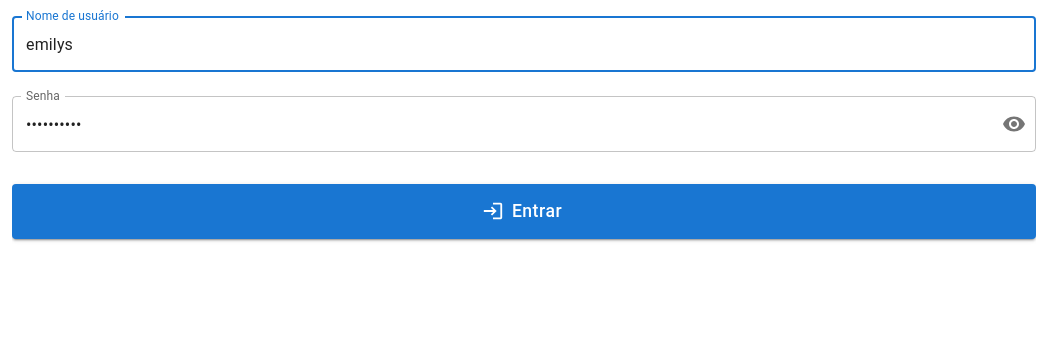
Test: LoginForm › handles server error gracefully
Click the button "Entrar" at [524, 211], box [12,184,1036,239]
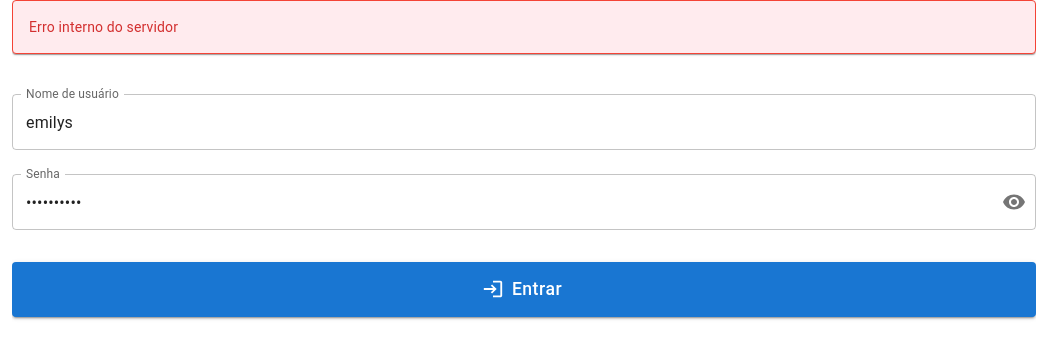
Check: the text "Erro interno do servidor" is shown, box [29,19,178,35]
